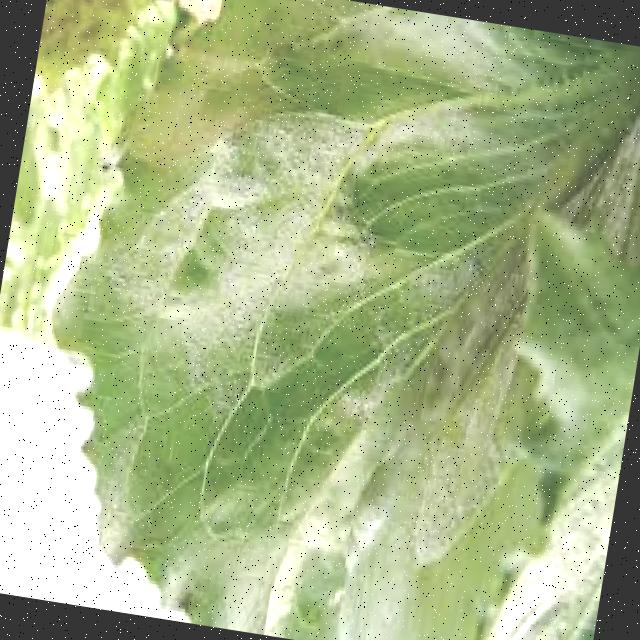Powdery_mildew_on_lettuce: (110, 46, 507, 459)
